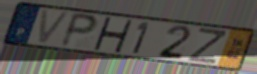1: (132, 21, 152, 56)
2: (157, 24, 194, 62)
H: (91, 16, 135, 54)
P: (58, 11, 100, 49)
V: (36, 8, 73, 46)
Z: (186, 26, 228, 66)
